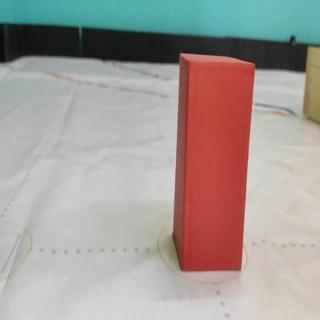redbox: (173, 53, 254, 271)
